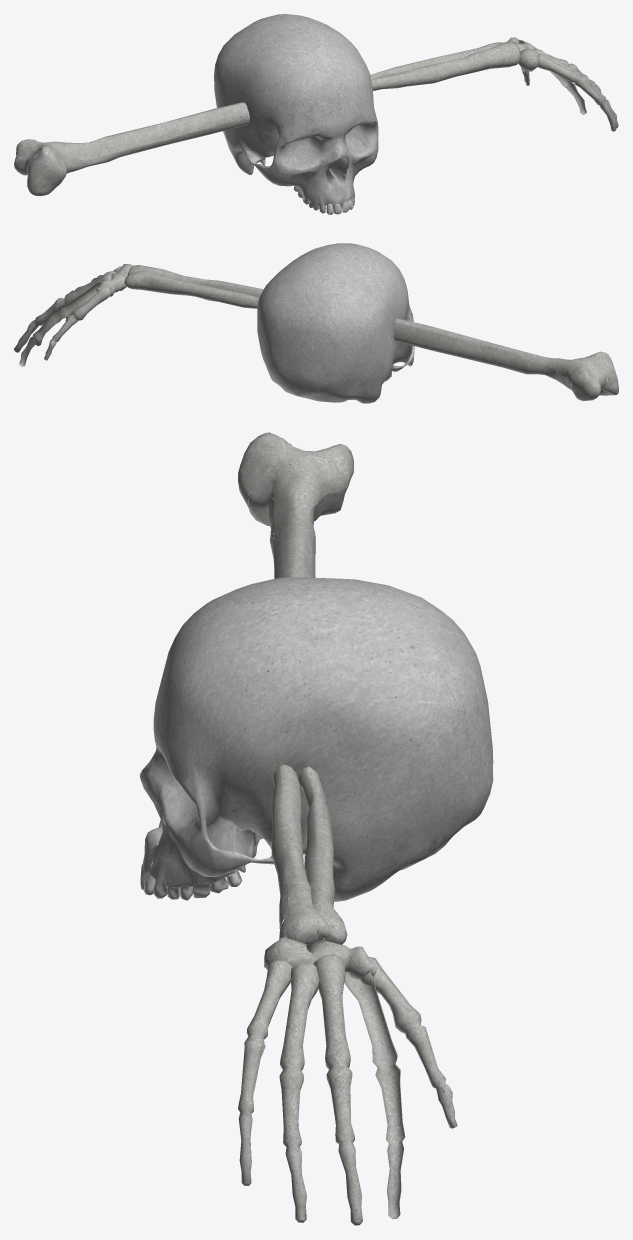
The model's file is topping_9.glb.
3 views of the same model, one above another, from view 1: azimuth 30°, elevation 25°; view 2: azimuth 150°, elevation 25°; view 3: azimuth 270°, elevation 25° (orthographic). The views are drawn at different scales.
Parts seen in each view (by area): view 1: palka_11; view 2: palka_11; view 3: palka_11.
Part boxes in pixels (x1,y1,x2,y2): palka_11: (14,14,618,214); palka_11: (14,243,618,403); palka_11: (140,432,493,1225).
Bounding box in the file's own units: 83.68 × 23.48 × 22.04.
2 materials, 2 textured.
